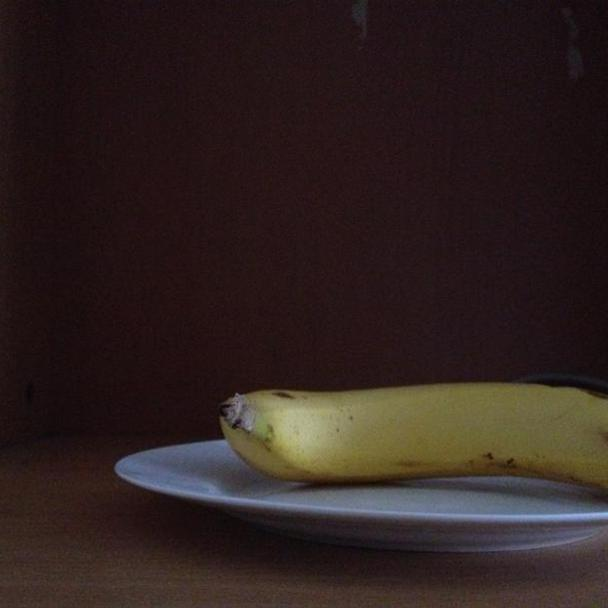banana: (224, 379, 608, 491)
